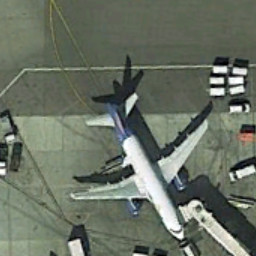Airplane: (63, 84, 222, 247)
